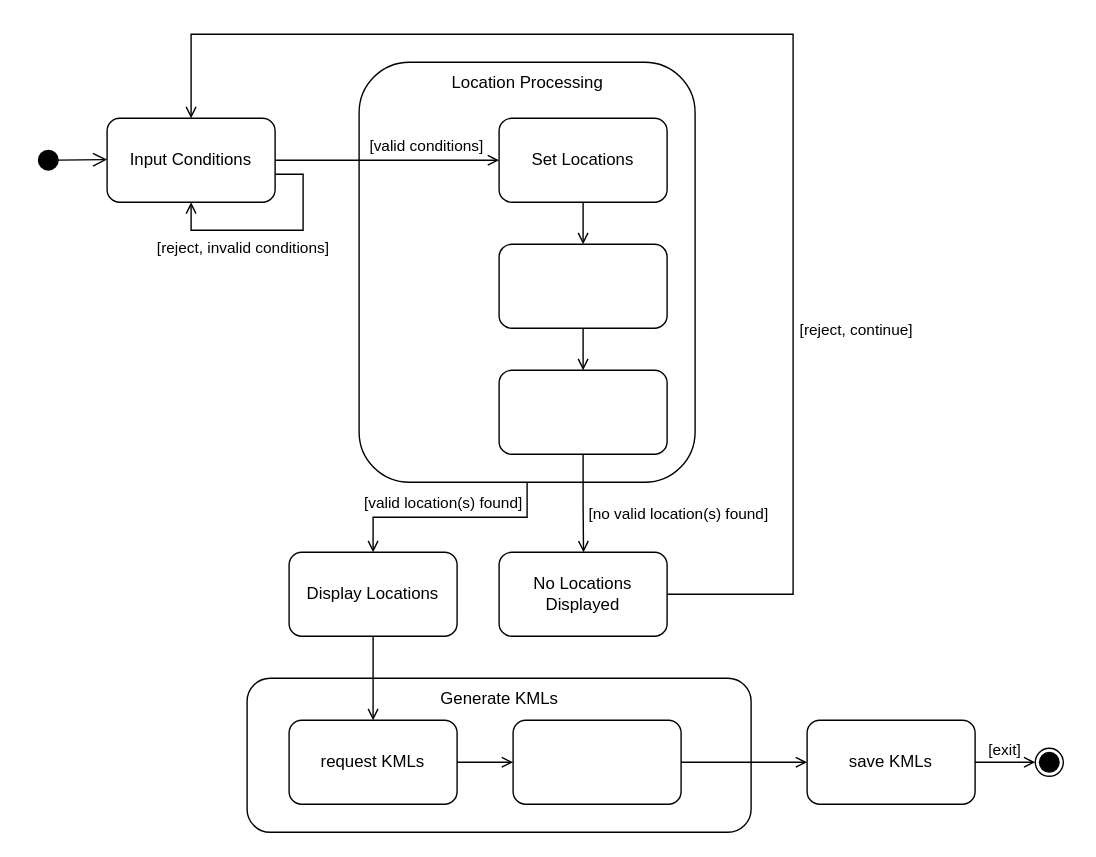
Image size: 1096x857. Some labels were removed from this diagram. The centre of each missing label's shape, as x and y in pixels:
"convert to KMLs" belongs at point 596,761.
"Process" belongs at point 582,411.
"Set Requirements" belongs at point 582,285.
